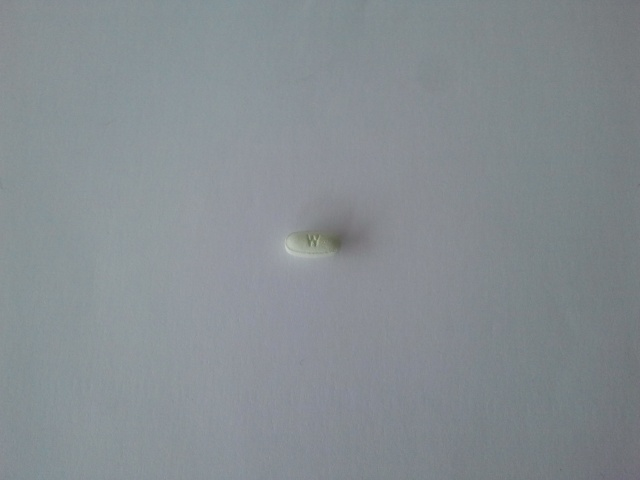W: (304, 234, 321, 250)
